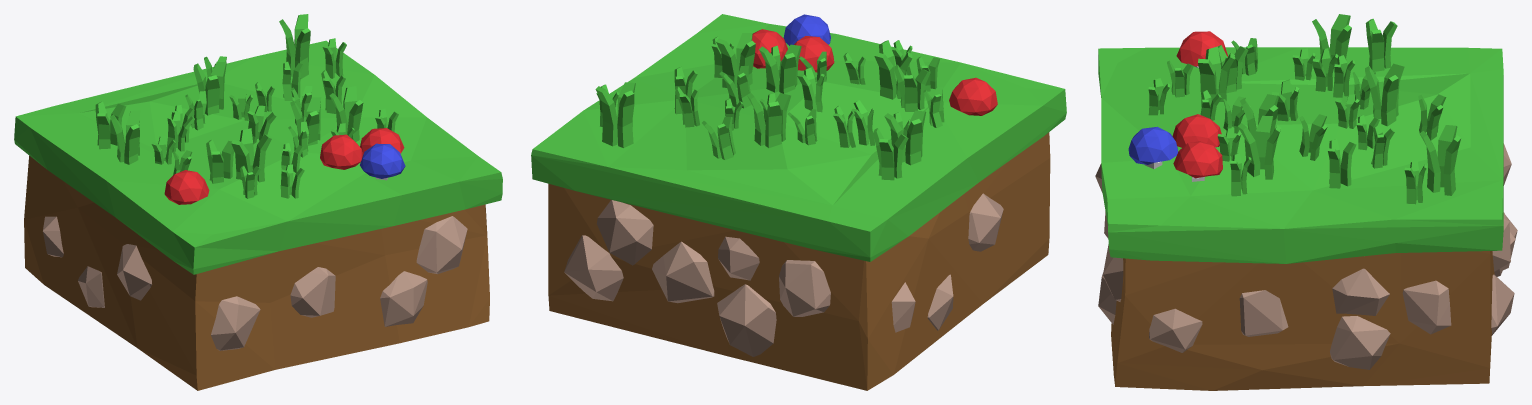
File: GenericTile2.fbx
The picture shows the model from 3 angles, left to right: view 1: azimuth 30°, elevation 25°; view 2: azimuth 150°, elevation 25°; view 3: azimuth 270°, elevation 25°; orthographic projection. The views are drawn at different scales.
Visible parts, largest first — view 1: Ground, Grass Blades, Rocks, Mushroom 1, Mushroom.002, Mushroom, Mushroom.001; view 2: Ground, Grass Blades, Rocks, Mushroom.002, Mushroom 1, Mushroom, Mushroom.001; view 3: Ground, Grass Blades, Rocks, Mushroom 1, Mushroom.001, Mushroom, Mushroom.002.
Part boxes in pixels (x1,y1,x2,y2): Ground: [14, 40, 502, 390]; Grass Blades: [95, 14, 398, 198]; Rocks: [43, 216, 467, 350]; Mushroom 1: [360, 143, 405, 180]; Mushroom.002: [164, 170, 209, 204]; Mushroom: [320, 134, 363, 169]; Mushroom.001: [360, 128, 404, 153]; Ground: [531, 14, 1066, 390]; Grass Blades: [595, 33, 944, 180]; Rocks: [564, 193, 1003, 356]; Mushroom.002: [949, 77, 997, 115]; Mushroom 1: [783, 14, 830, 45]; Mushroom: [794, 36, 834, 72]; Mushroom.001: [752, 29, 787, 68]; Ground: [1098, 47, 1503, 390]; Grass Blades: [1148, 14, 1460, 204]; Rocks: [1095, 143, 1517, 369]; Mushroom 1: [1128, 126, 1177, 168]; Mushroom.001: [1173, 141, 1222, 181]; Mushroom: [1172, 114, 1221, 147]; Mushroom.002: [1176, 31, 1227, 67].
Bounding box in the file's own units: 218 × 134 × 220.
